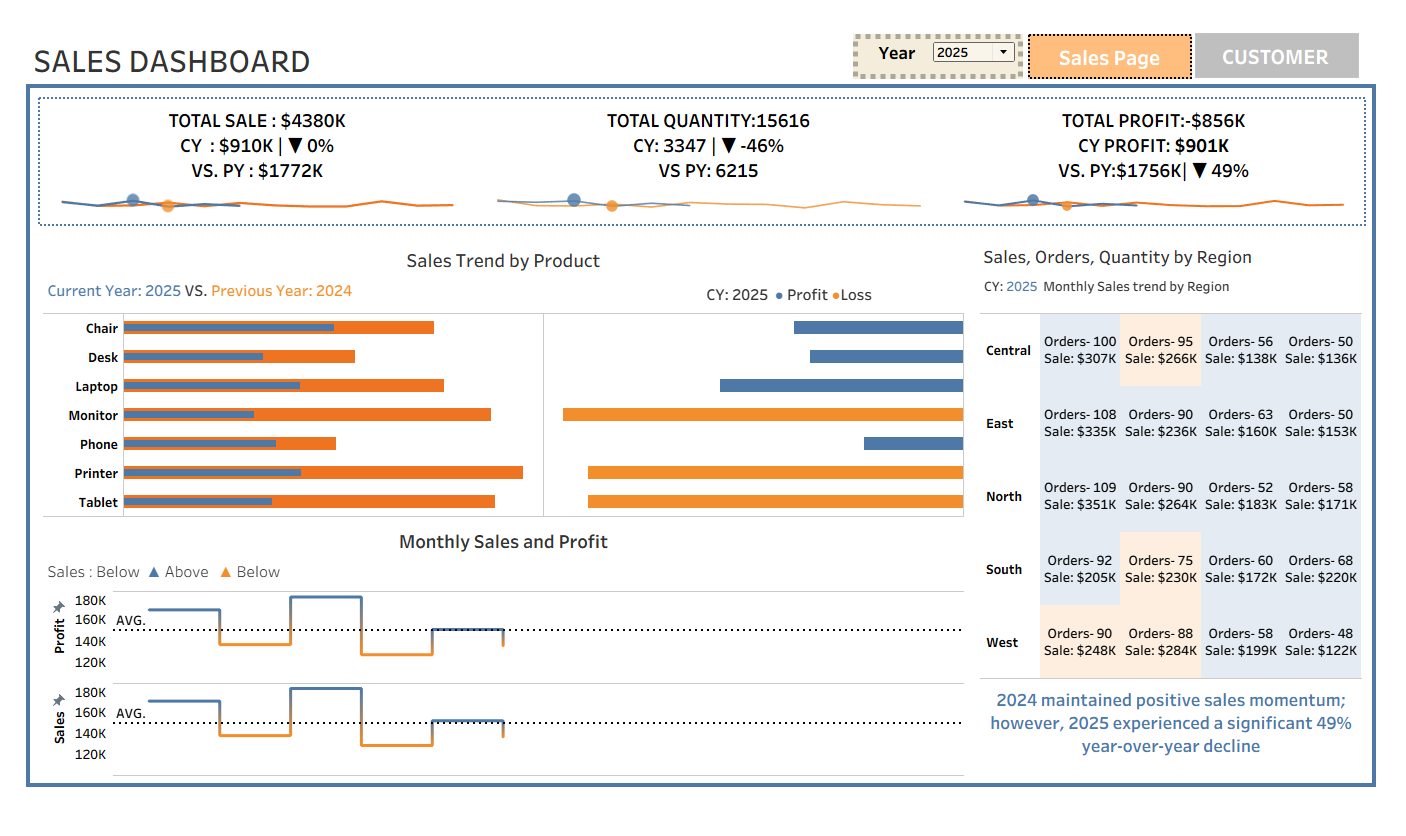

The page's visual inventory and layout, read from the dashboard file:
{"tool":"tableau","page":{"name":"Dashboard 3","canvas":[1366,768],"ordinal":1},"visuals":[{"type":"dashboard-object","box":[1015,5,164,49]},{"type":"dashboard-object","box":[1189,5,164,49]},{"type":"title","box":[8,8,1350,49]},{"type":"worksheet","title":"Sales KPI","mark":"Line","rows":["Calculation_287385966322085920"],"cols":["Date"],"box":[22,72,434,125]},{"type":"worksheet","title":"Quantity KPI","mark":"Line","rows":["Calculation_287385966324645921"],"cols":["Date"],"box":[456,72,469,125]},{"type":"worksheet","title":"Profit","mark":"Automatic","rows":["Calculation_287385966328164386"],"cols":["Date"],"box":[925,72,421,125]},{"type":"text","box":[958,213,390,32]},{"type":"text","box":[21,216,929,33]},{"type":"worksheet","title":"Sales by region","mark":"Automatic","box":[958,245,390,28]},{"type":"worksheet","title":"CY PY","mark":"Text","box":[21,249,929,29]},{"type":"worksheet","title":"Profit loss","mark":"Automatic","box":[678,257,200,22]},{"type":"worksheet","title":"product","mark":"Bar","rows":["Product"],"cols":["Calculation_318911161146077187","Calculation_318911161145823234","Calculation_287385966277017618"],"box":[21,282,929,216]},{"type":"worksheet","title":"sales quarter","mark":"Square","rows":["Region"],"cols":["Date"],"box":[958,282,390,374]},{"type":"text","box":[21,498,929,32]},{"type":"worksheet","title":"sales","mark":"Automatic","box":[21,530,929,29]},{"type":"worksheet","title":"above/below","mark":"Automatic","rows":["Calculation_287385966275391501","Calculation_318911161145823234"],"cols":["Date"],"box":[21,560,929,193]},{"type":"text","box":[958,656,390,80]}]}

Visuals, with their boxes on the page's 1366x768 design canvas (x1, y1, x2, y2). These are canvas units, not pixel positions in the 1406x836 screenshot, which may show the page scaled, cropped or inside an application window:
dashboard-object: bbox=(1015, 5, 1179, 54)
dashboard-object: bbox=(1189, 5, 1353, 54)
title: bbox=(8, 8, 1358, 57)
"Sales KPI" worksheet (Line marks): bbox=(22, 72, 456, 197)
"Quantity KPI" worksheet (Line marks): bbox=(456, 72, 925, 197)
"Profit" worksheet: bbox=(925, 72, 1346, 197)
text: bbox=(958, 213, 1348, 245)
text: bbox=(21, 216, 950, 249)
"Sales by region" worksheet: bbox=(958, 245, 1348, 273)
"CY PY" worksheet (Text marks): bbox=(21, 249, 950, 278)
"Profit loss" worksheet: bbox=(678, 257, 878, 279)
"product" worksheet (Bar marks): bbox=(21, 282, 950, 498)
"sales quarter" worksheet (Square marks): bbox=(958, 282, 1348, 656)
text: bbox=(21, 498, 950, 530)
"sales" worksheet: bbox=(21, 530, 950, 559)
"above/below" worksheet: bbox=(21, 560, 950, 753)
text: bbox=(958, 656, 1348, 736)
